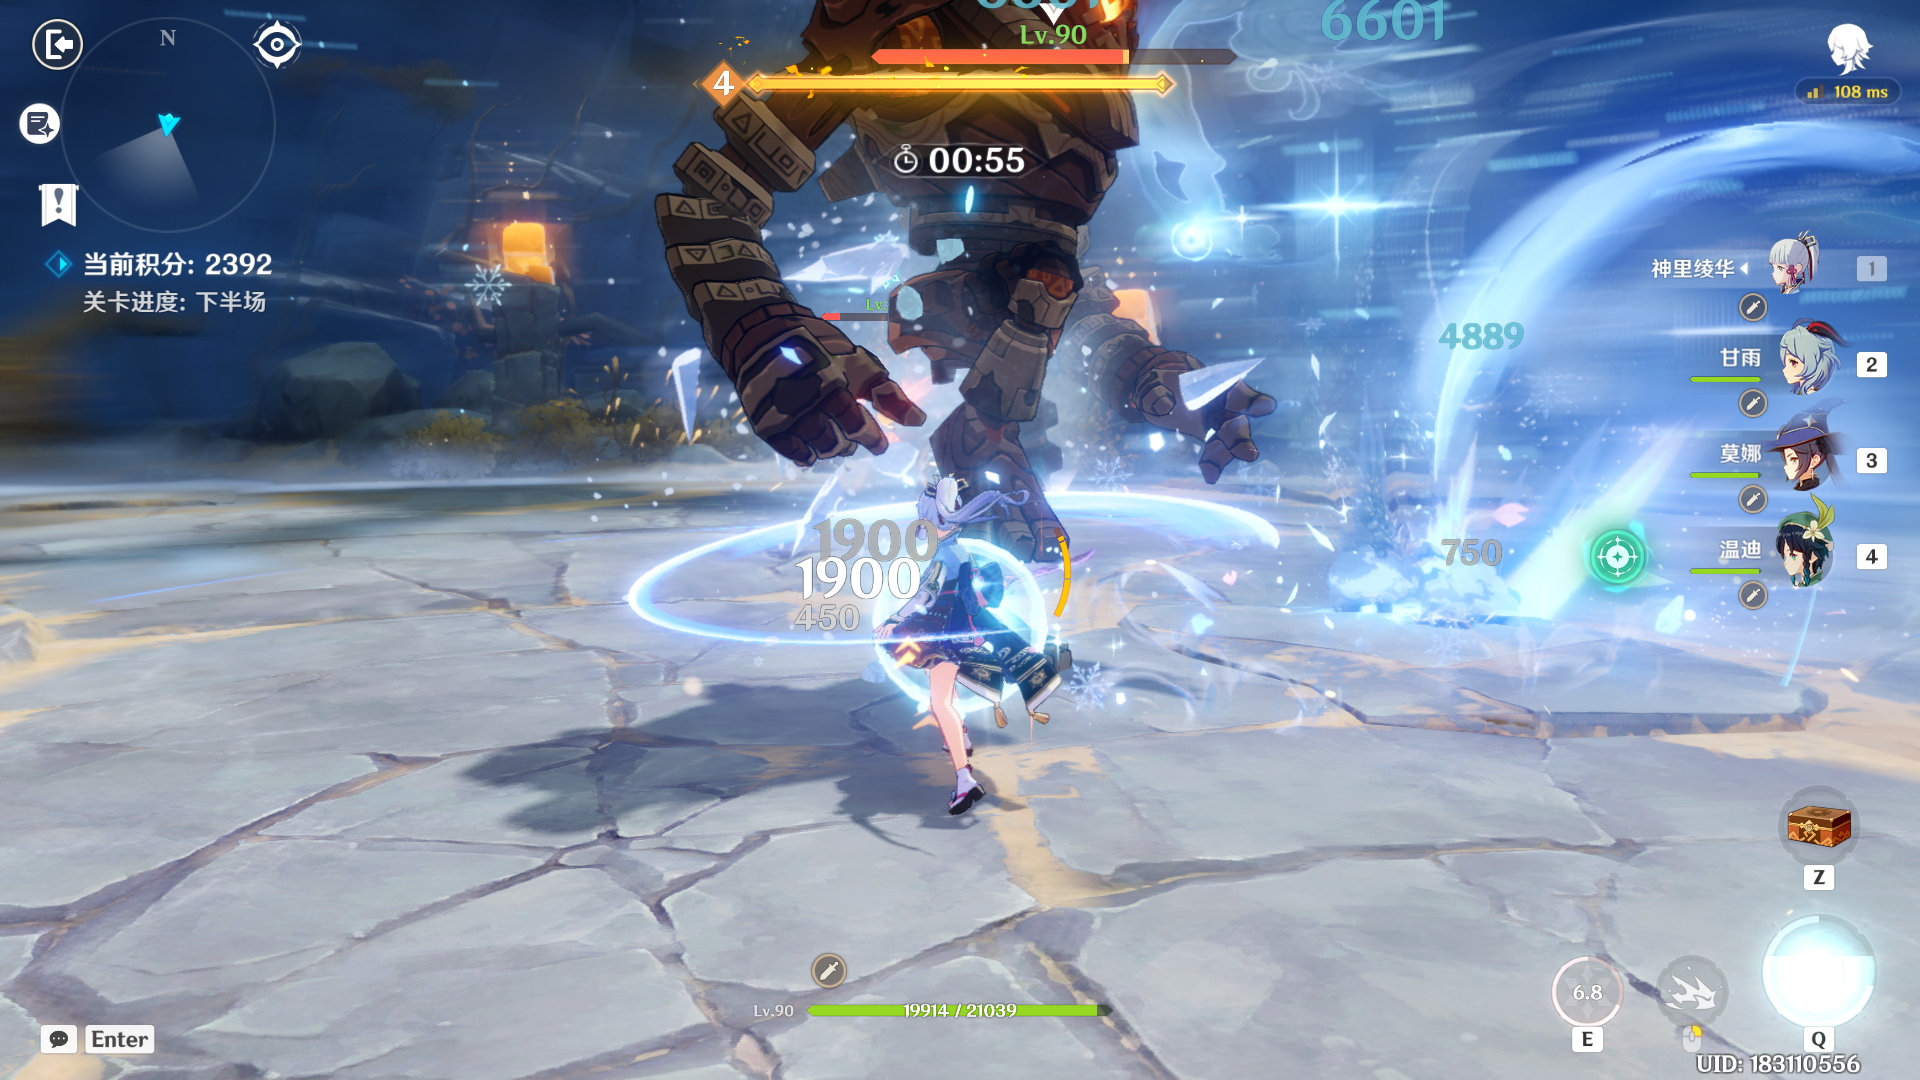character: (837, 469, 1079, 832)
